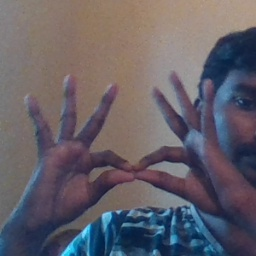B: (68, 112, 203, 201)
